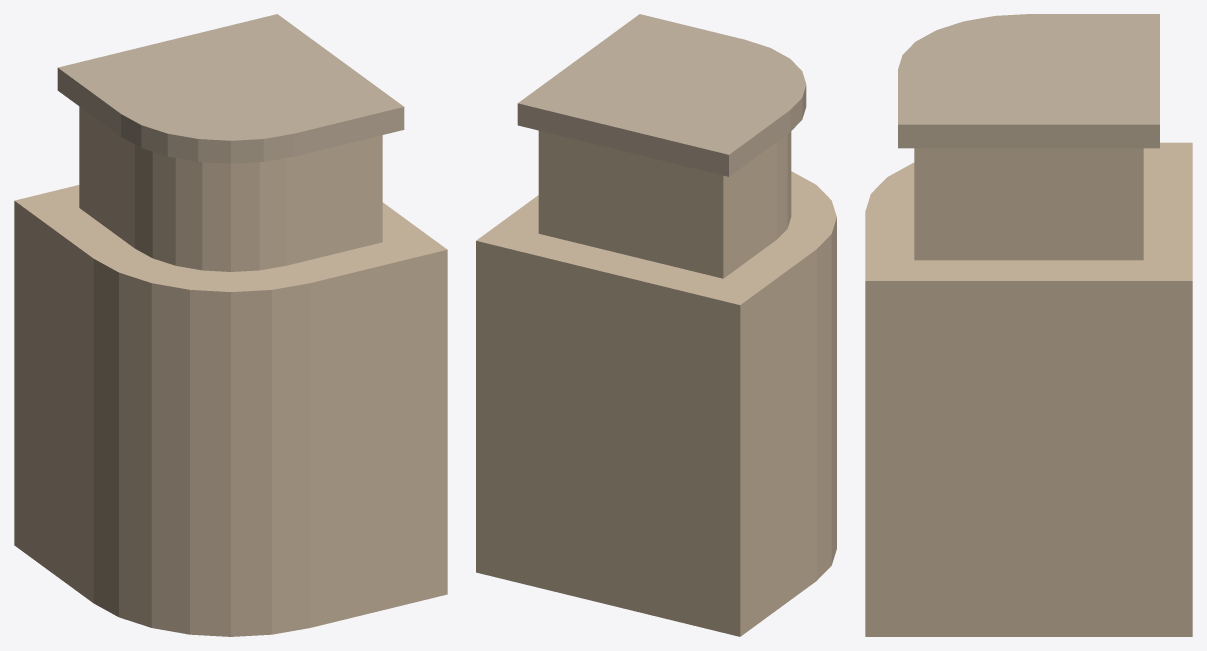
Rendered from city_parapet_corner.glb.
3 renders of one model, left to right at view 1: azimuth 30°, elevation 25°; view 2: azimuth 150°, elevation 25°; view 3: azimuth 270°, elevation 25°, orthographic. The views are drawn at different scales.
Parts seen in each view (by area): view 1: CityParapetCorner_Pier, CityParapetCorner_Cap, CityParapetCorner_Step; view 2: CityParapetCorner_Pier, CityParapetCorner_Cap, CityParapetCorner_Step; view 3: CityParapetCorner_Pier, CityParapetCorner_Cap, CityParapetCorner_Step.
Part boxes in pixels (x1=…): CityParapetCorner_Pier: x1=14, y1=185, x2=447, y2=636; CityParapetCorner_Cap: x1=57, y1=14, x2=404, y2=163; CityParapetCorner_Step: x1=79, y1=106, x2=382, y2=271; CityParapetCorner_Pier: x1=476, y1=171, x2=836, y2=636; CityParapetCorner_Cap: x1=517, y1=14, x2=806, y2=176; CityParapetCorner_Step: x1=538, y1=130, x2=791, y2=278; CityParapetCorner_Pier: x1=865, y1=142, x2=1192, y2=636; CityParapetCorner_Cap: x1=898, y1=14, x2=1159, y2=148; CityParapetCorner_Step: x1=914, y1=148, x2=1143, y2=260.
Bounding box in the file's own units: 1 × 1.68 × 1.
